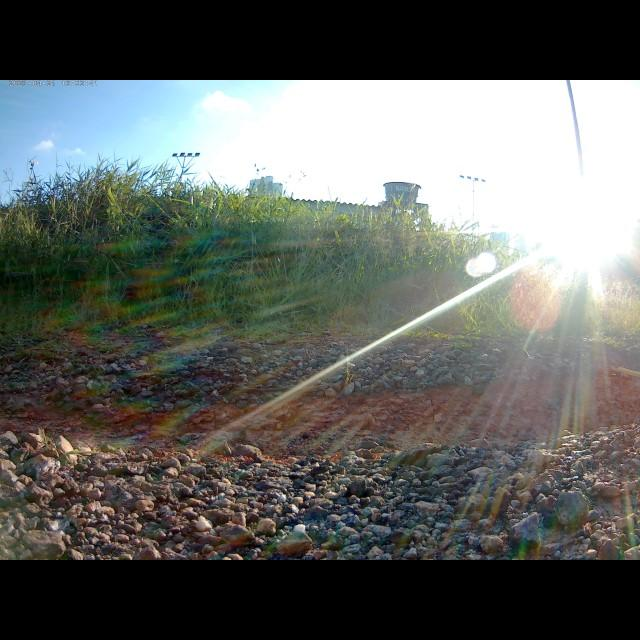ravina: (3, 365, 638, 461)
